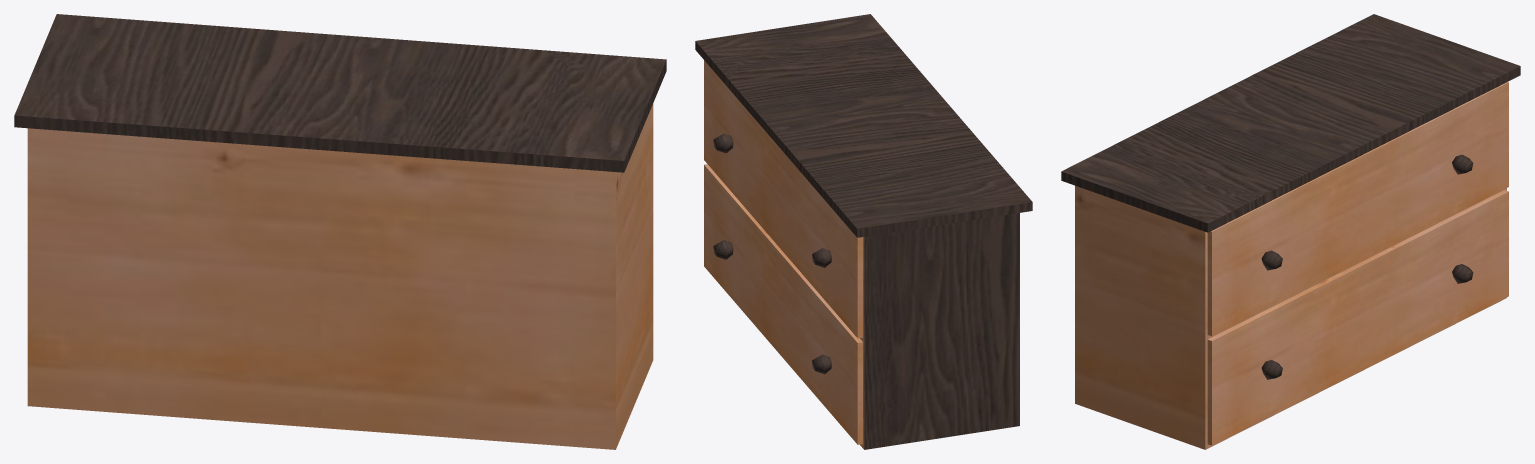
The picture shows the model from 3 angles, left to right: view 1: azimuth 30°, elevation 25°; view 2: azimuth 150°, elevation 25°; view 3: azimuth 270°, elevation 25°; orthographic projection. The views are drawn at different scales.
Visible parts, largest first — view 1: Cajonera001_Wood_07003_0, Cajonera001_Wood_02002_0; view 2: Cajonera001_Wood_02002_0, Drawer_02001_Wood_07003_0, Drawer_01001_Wood_07003_0, Drawer_01001_Metal_04003_0, Drawer_02001_Metal_04003_0, Cajonera001_Wood_07003_0; view 3: Cajonera001_Wood_02002_0, Drawer_02001_Wood_07003_0, Drawer_01001_Wood_07003_0, Cajonera001_Wood_07003_0, Drawer_02001_Metal_04003_0, Drawer_01001_Metal_04003_0.
Part boxes in pixels (left/top/right/bottom): Cajonera001_Wood_07003_0: left=27, top=103, right=653, bottom=449; Cajonera001_Wood_02002_0: left=14, top=14, right=666, bottom=172; Cajonera001_Wood_02002_0: left=695, top=14, right=1032, bottom=449; Drawer_02001_Wood_07003_0: left=704, top=164, right=862, bottom=444; Drawer_01001_Wood_07003_0: left=704, top=60, right=862, bottom=338; Drawer_01001_Metal_04003_0: left=713, top=133, right=832, bottom=267; Drawer_02001_Metal_04003_0: left=713, top=240, right=831, bottom=374; Cajonera001_Wood_07003_0: left=860, top=237, right=864, bottom=449; Cajonera001_Wood_02002_0: left=1061, top=14, right=1520, bottom=232; Drawer_02001_Wood_07003_0: left=1207, top=190, right=1508, bottom=445; Drawer_01001_Wood_07003_0: left=1207, top=82, right=1508, bottom=336; Cajonera001_Wood_07003_0: left=1075, top=185, right=1506, bottom=449; Drawer_02001_Metal_04003_0: left=1261, top=264, right=1473, bottom=379; Drawer_01001_Metal_04003_0: left=1261, top=154, right=1473, bottom=270.
Size of the model in its own units: 1.35 by 0.6988 by 1.25.
2 materials, 2 textured.
